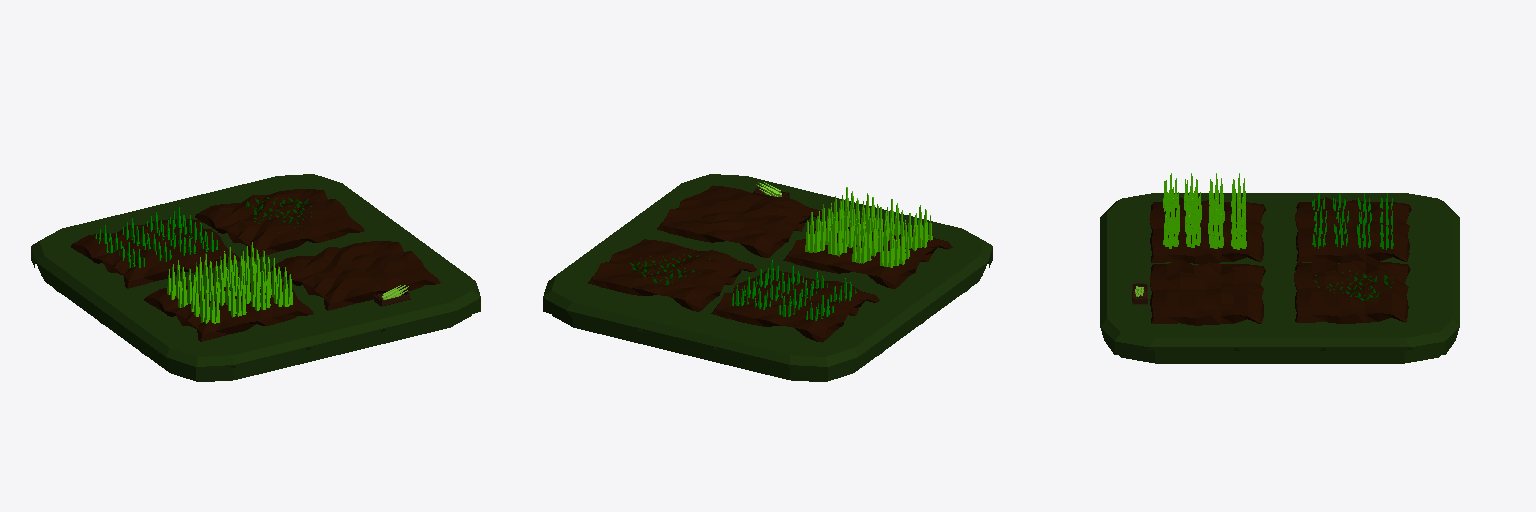
File: Tanim-Lv1.obj
3 views of the same model, side by side, from view 1: azimuth 30°, elevation 25°; view 2: azimuth 150°, elevation 25°; view 3: azimuth 270°, elevation 25° (orthographic).
Parts seen in each view (by area): view 1: block-grass-overhang-low-large, Plane.003, Cube.028, Cube.007; view 2: block-grass-overhang-low-large, Plane.003, Cube.028, Cube.007; view 3: block-grass-overhang-low-large, Plane.003, Cube.028, Cube.007.
Boxes of the visible parts, x1=… form: block-grass-overhang-low-large: x1=31, y1=174, x2=480, y2=381; Plane.003: x1=71, y1=189, x2=440, y2=341; Cube.028: x1=167, y1=242, x2=292, y2=323; Cube.007: x1=95, y1=207, x2=217, y2=268; block-grass-overhang-low-large: x1=543, y1=174, x2=992, y2=381; Plane.003: x1=588, y1=185, x2=952, y2=342; Cube.028: x1=805, y1=187, x2=932, y2=267; Cube.007: x1=732, y1=260, x2=856, y2=320; block-grass-overhang-low-large: x1=1100, y1=193, x2=1459, y2=363; Plane.003: x1=1149, y1=197, x2=1411, y2=325; Cube.028: x1=1163, y1=173, x2=1246, y2=249; Cube.007: x1=1312, y1=193, x2=1393, y2=249.
Bounding box in the file's own units: 12.43 × 2.67 × 12.48.